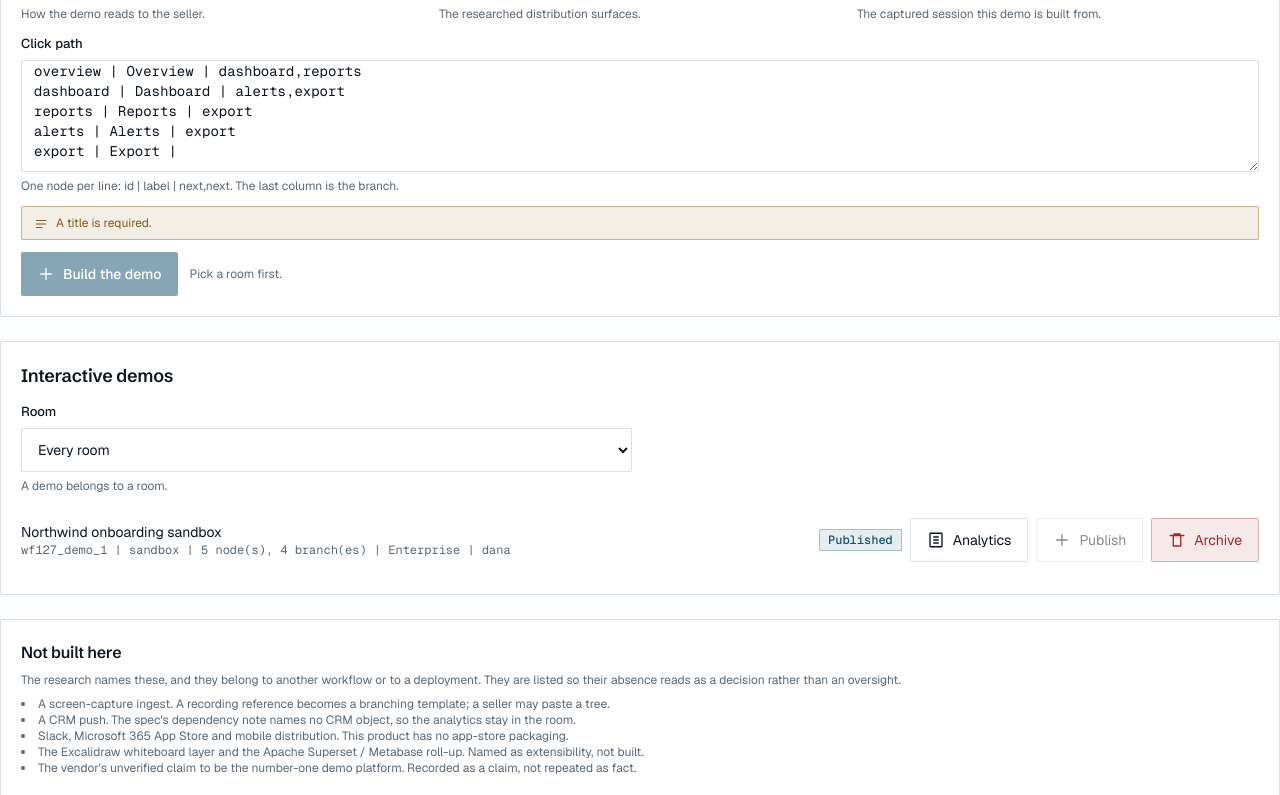
the page › opens the analytics panel and reads the metrics and the heatmap
(page scrolled)
Step 1. Click the button "Analytics" → (969, 540), box [910,518,1028,562]
(page scrolled)
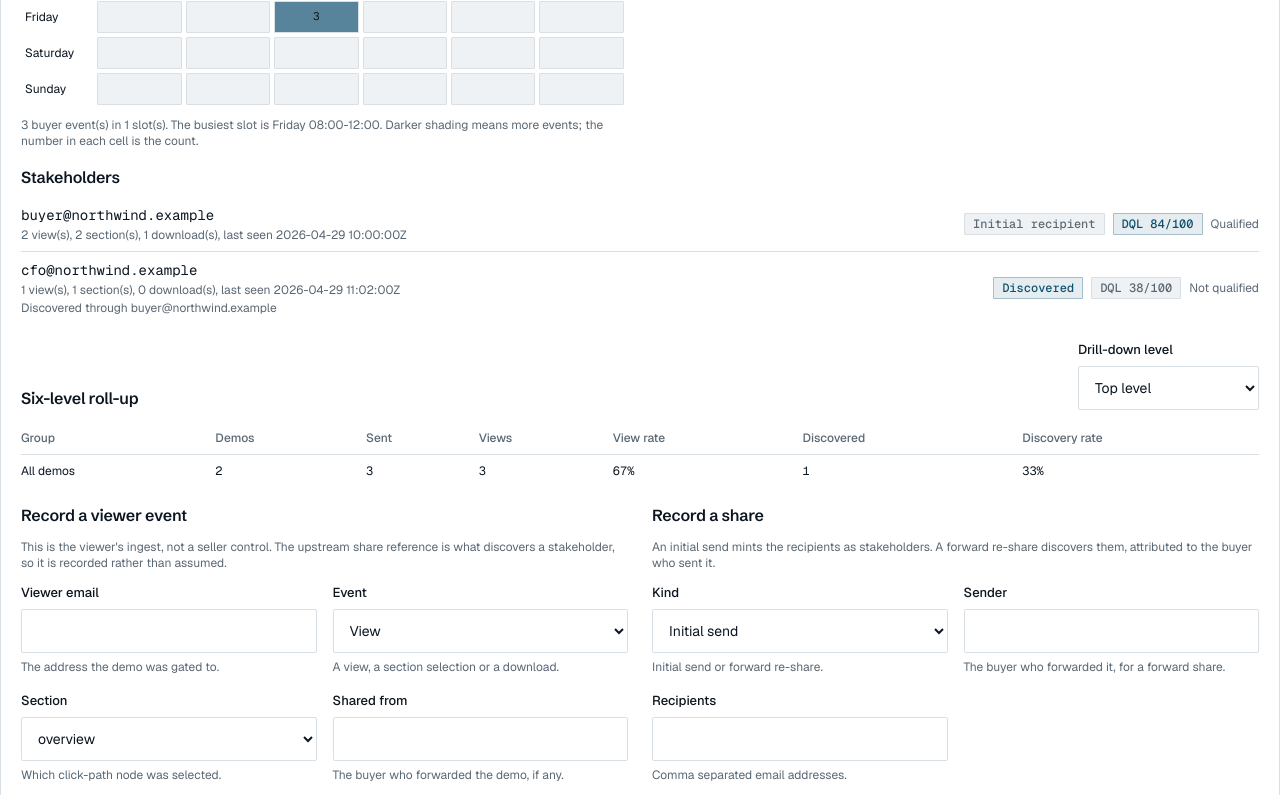
expect the heading "Six-level roll-up" is shown: met, box [21,386,138,410]
